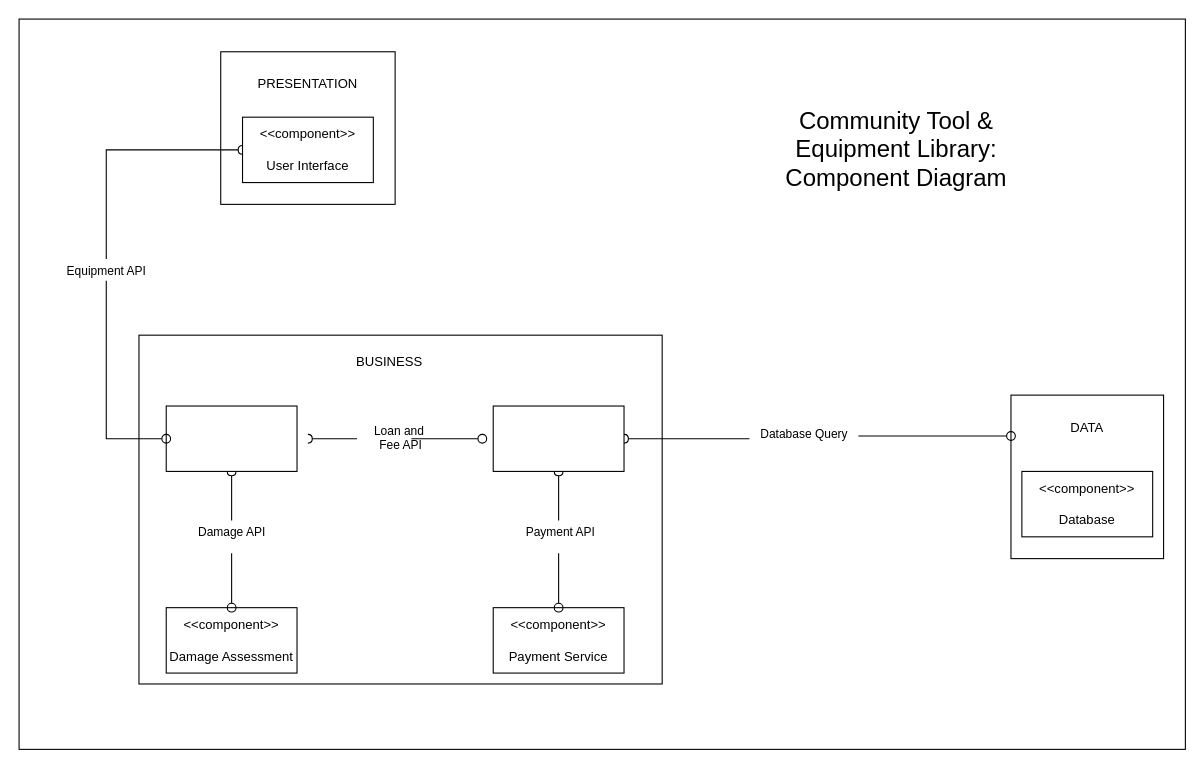
Image size: 1204x768. Some labels were removed from this diagram. Here are the shapes that lost their labels. From the top down, the box of each, then its label:
(165, 405, 297, 471): <<component>> Equipment Managment
(492, 405, 624, 471): <<component>> Loan and Fee Management
